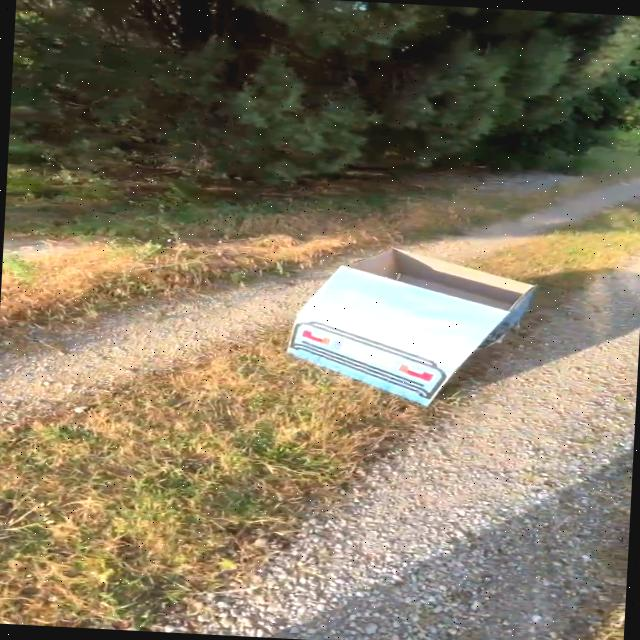blue_car: (251, 218, 574, 440)
